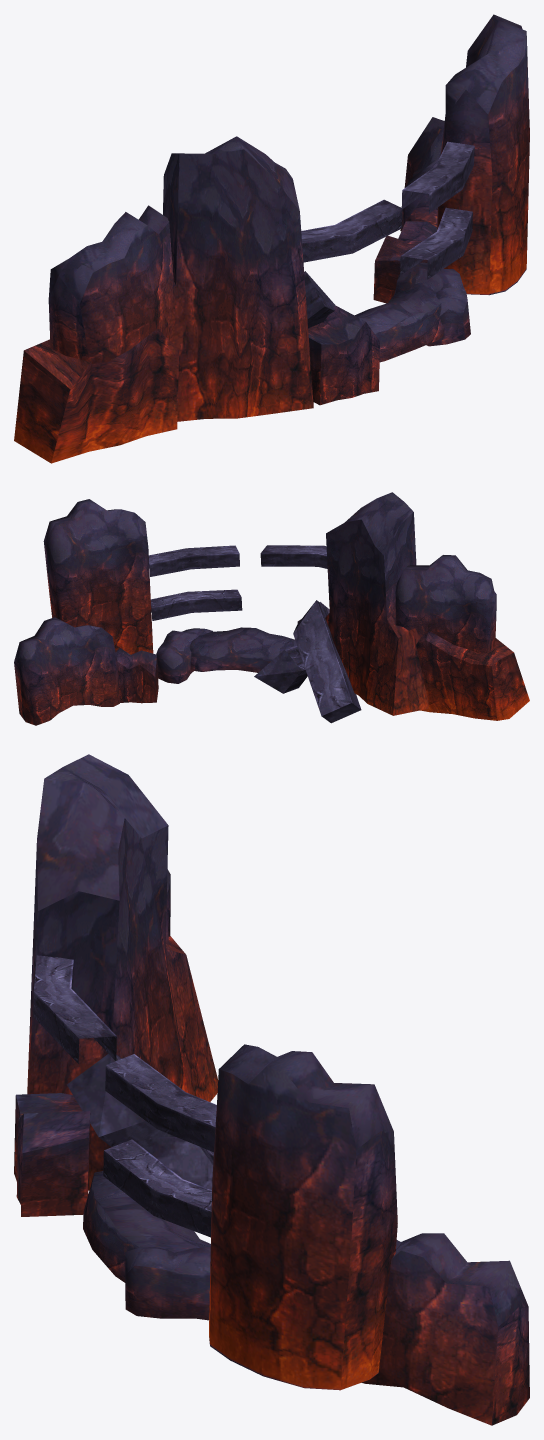
File: 10509_stone04.FBX
3 views of the same model, one above another, from view 1: azimuth 30°, elevation 25°; view 2: azimuth 150°, elevation 25°; view 3: azimuth 270°, elevation 25° (orthographic). The views are drawn at different scales.
Visible parts, largest first — view 1: Object982; view 2: Object982; view 3: Object982.
Part boxes in pixels (x1,y1,x2,y2): Object982: (14, 14, 529, 463); Object982: (14, 492, 529, 725); Object982: (14, 754, 529, 1425).
Bounding box in the file's own units: 2162 × 1061 × 1207.
